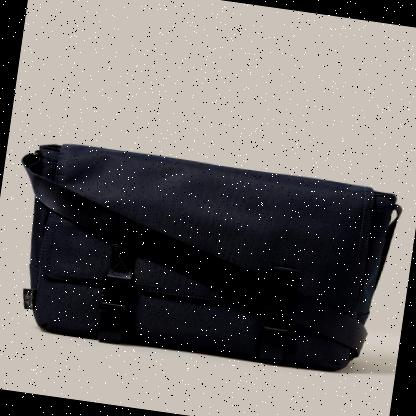bag: (0, 130, 408, 387)
